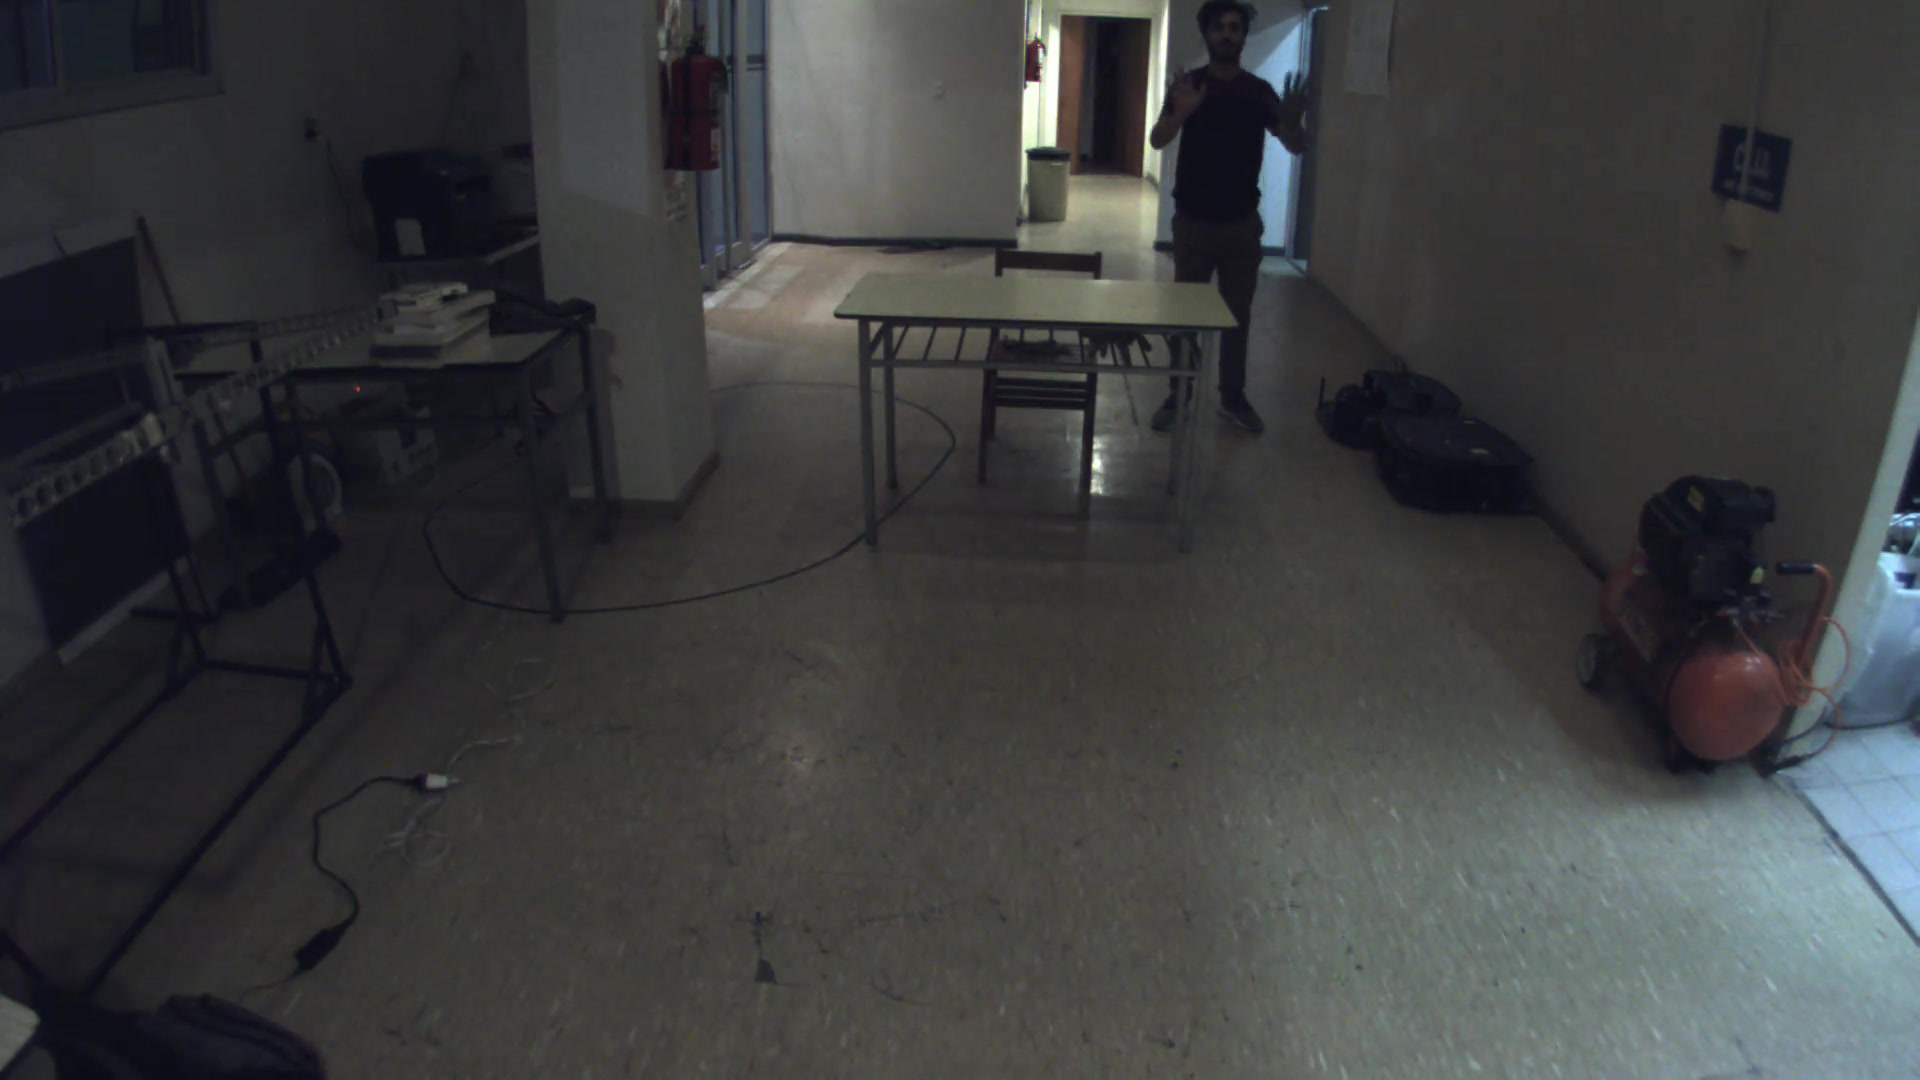hand: (1153, 58, 1238, 135), (1255, 62, 1321, 131)
